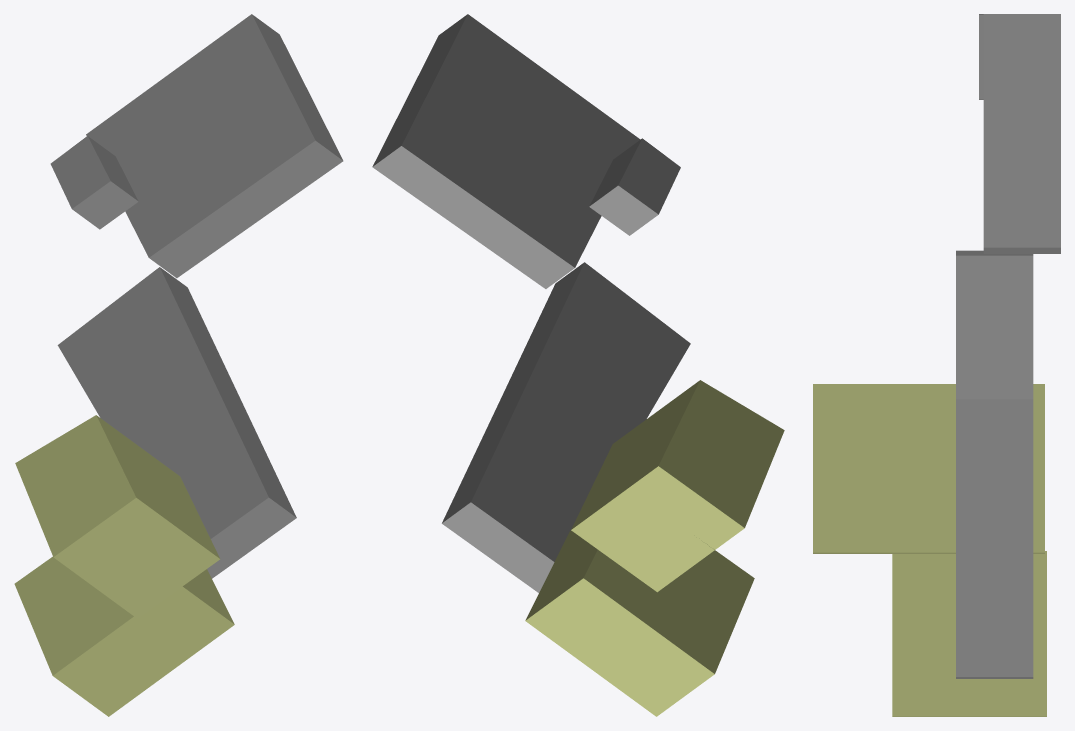
3 views of the same model, side by side, from view 1: azimuth 30°, elevation 25°; view 2: azimuth 150°, elevation 25°; view 3: azimuth 270°, elevation 25° (orthographic). The views are drawn at different scales.
Parts seen in each view (by area): view 1: 0_1_1_3_2_1; view 2: 0_1_1_3_2_1; view 3: 0_1_1_3_2_1.
Part boxes in pixels (x1=…): 0_1_1_3_2_1: x1=14, y1=14, x2=343, y2=716; 0_1_1_3_2_1: x1=372, y1=14, x2=784, y2=716; 0_1_1_3_2_1: x1=813, y1=14, x2=1060, y2=716.
Size of the model in its own units: 18.93 by 35.93 by 9.62.
